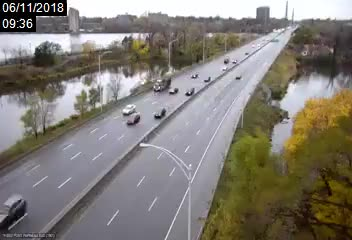personal_car: (1, 194, 28, 229), (126, 111, 141, 125), (121, 103, 137, 115), (152, 106, 167, 118), (168, 86, 179, 95), (184, 87, 195, 95), (203, 75, 214, 82), (191, 71, 198, 79), (222, 55, 229, 63), (221, 65, 230, 71), (234, 74, 242, 80), (231, 58, 237, 63)
truck: (154, 77, 171, 92)
